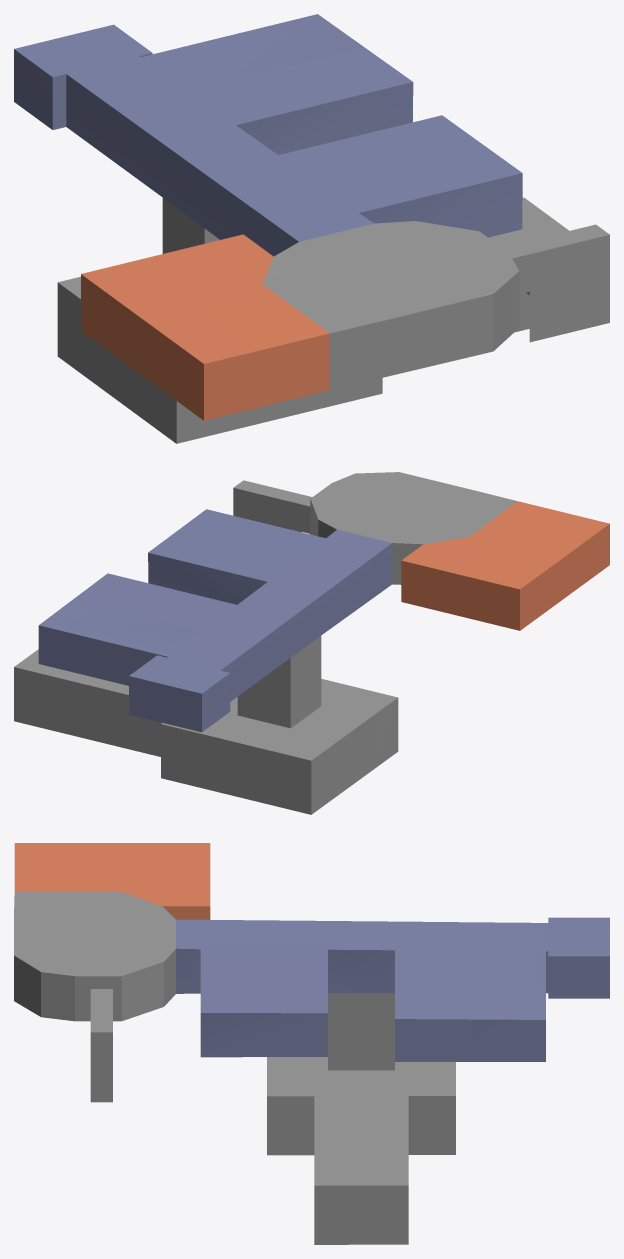
The model's file is newest_school.glb.
The picture shows the model from 3 angles, top to bottom: view 1: azimuth 30°, elevation 25°; view 2: azimuth 150°, elevation 25°; view 3: azimuth 270°, elevation 25°; orthographic projection. The views are drawn at different scales.
Parts seen in each view (by area): view 1: Hallway-col, Base-col; view 2: Hallway-col, Base-col; view 3: Hallway-col, Base-col.
Part boxes in pixels (<box>): Hallway-col: <box>14,14,568,443</box>; Base-col: <box>81,221,609,420</box>; Hallway-col: <box>14,509,398,814</box>; Base-col: <box>233,472,609,630</box>; Hallway-col: <box>176,917,609,1244</box>; Base-col: <box>14,843,210,1102</box>.
Bounding box in the file's own units: 46.79 × 17.95 × 53.46.
